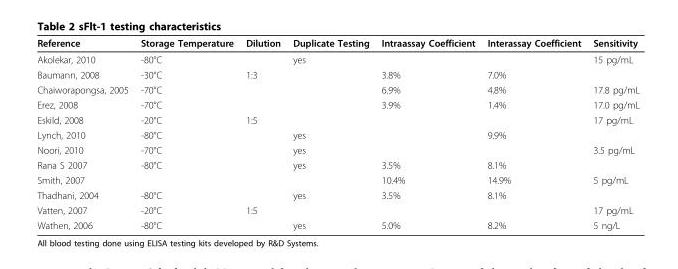table: (36, 36, 638, 230)
table column: (133, 36, 239, 230), (374, 36, 480, 230), (480, 36, 586, 230), (36, 36, 133, 230), (286, 36, 374, 230), (586, 36, 638, 230), (239, 36, 286, 230)
table column header: (36, 36, 638, 50)
table row: (36, 50, 638, 66), (36, 96, 638, 112), (36, 66, 638, 81), (36, 81, 638, 96), (36, 112, 638, 127), (36, 127, 638, 142), (36, 142, 638, 157), (36, 157, 638, 172), (36, 172, 638, 187), (36, 187, 638, 202), (36, 202, 638, 217), (36, 36, 638, 50), (36, 217, 638, 230)
